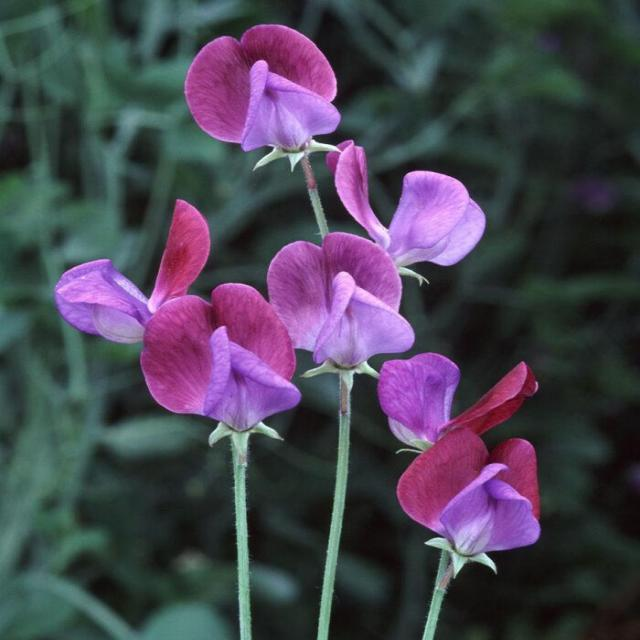organic waste: (50, 196, 225, 360), (319, 134, 504, 284), (395, 422, 559, 584), (149, 284, 312, 445), (183, 14, 369, 150), (368, 347, 553, 475), (263, 226, 423, 369)
